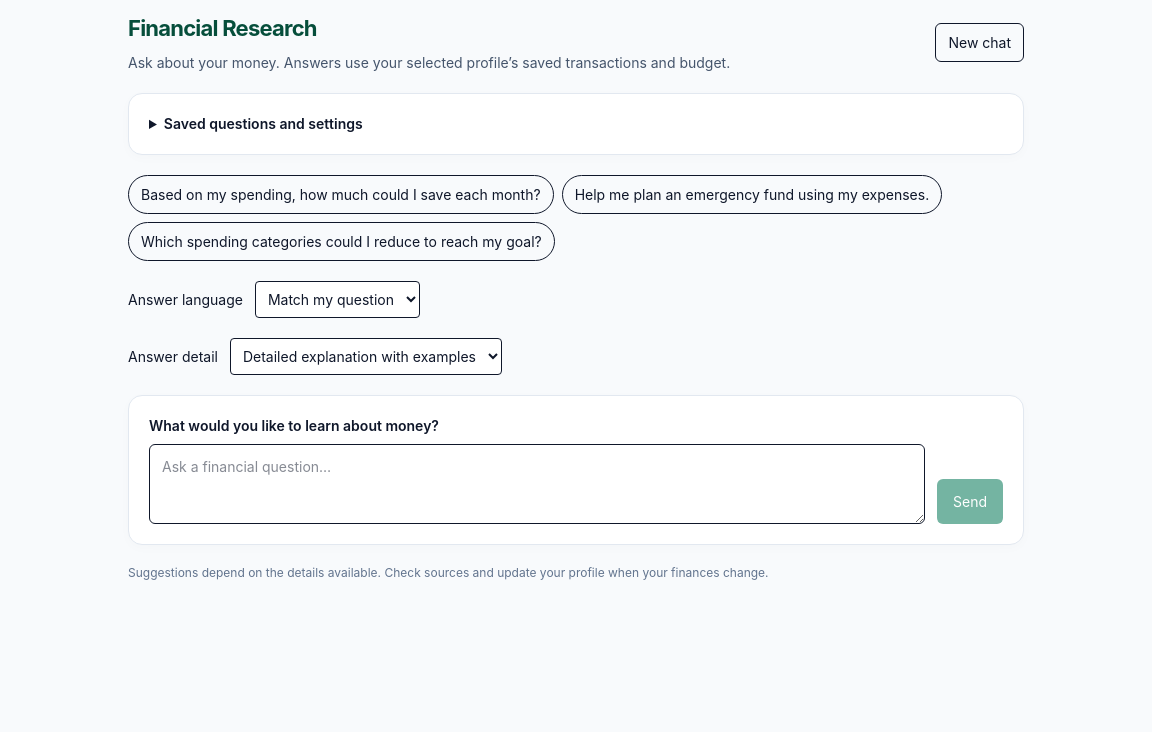
Test case: Financial Research page › sends the selected profile and displays the financial context used
The width and height of the screenshot is (1152, 732).
In the text box labelled "What would you like to learn about money?": [537, 484] box [149,444,925,524], type "How much can I save?"
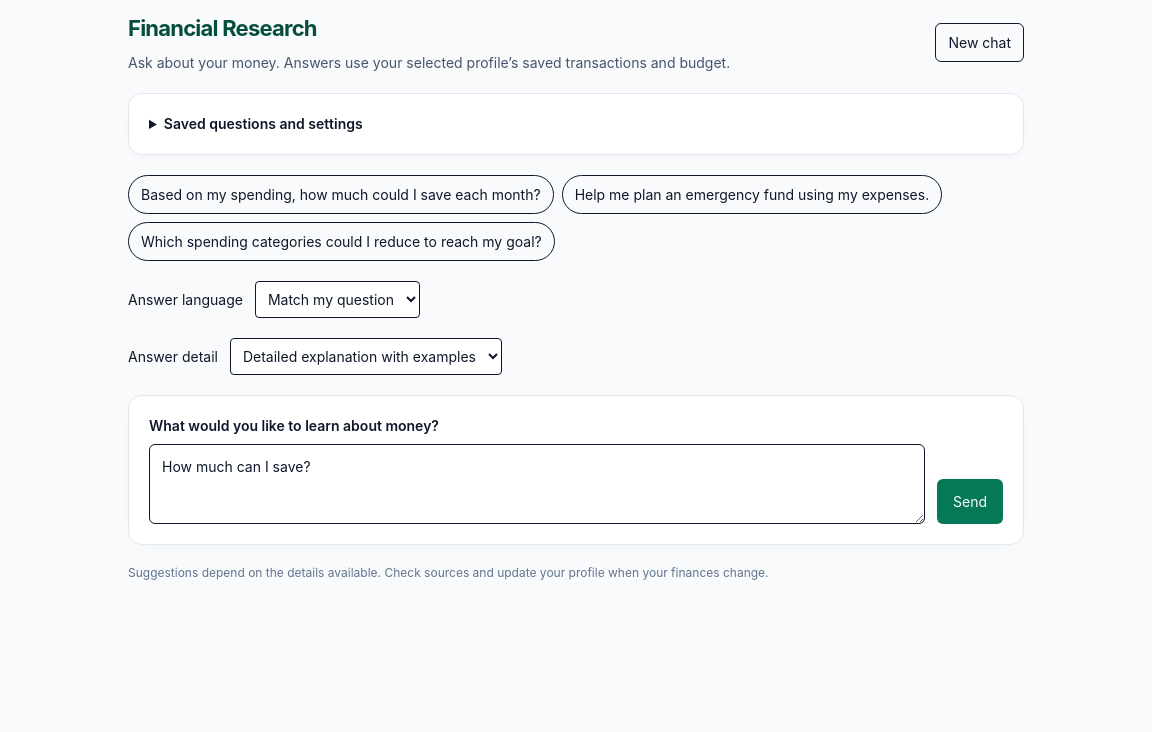
Click the button "Send": [970, 502] box [937,479,1003,524]
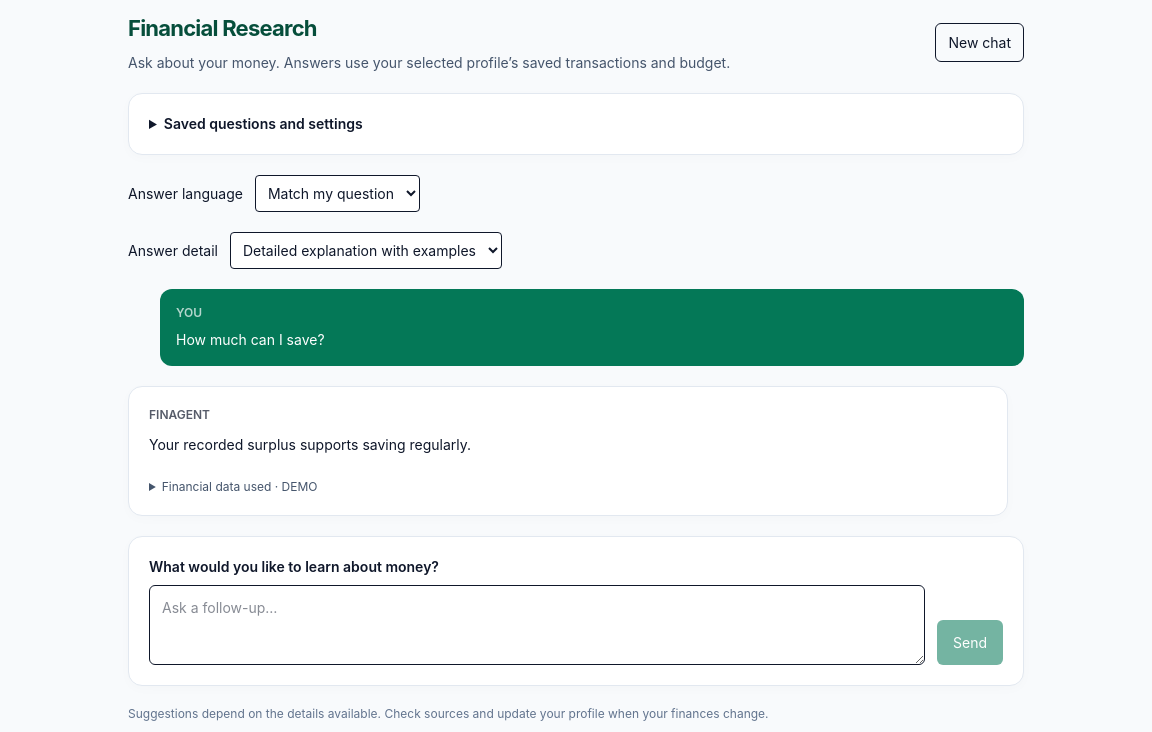
Now the heading "Financial data used · DEMO" is shown, box [162,479,318,494]
